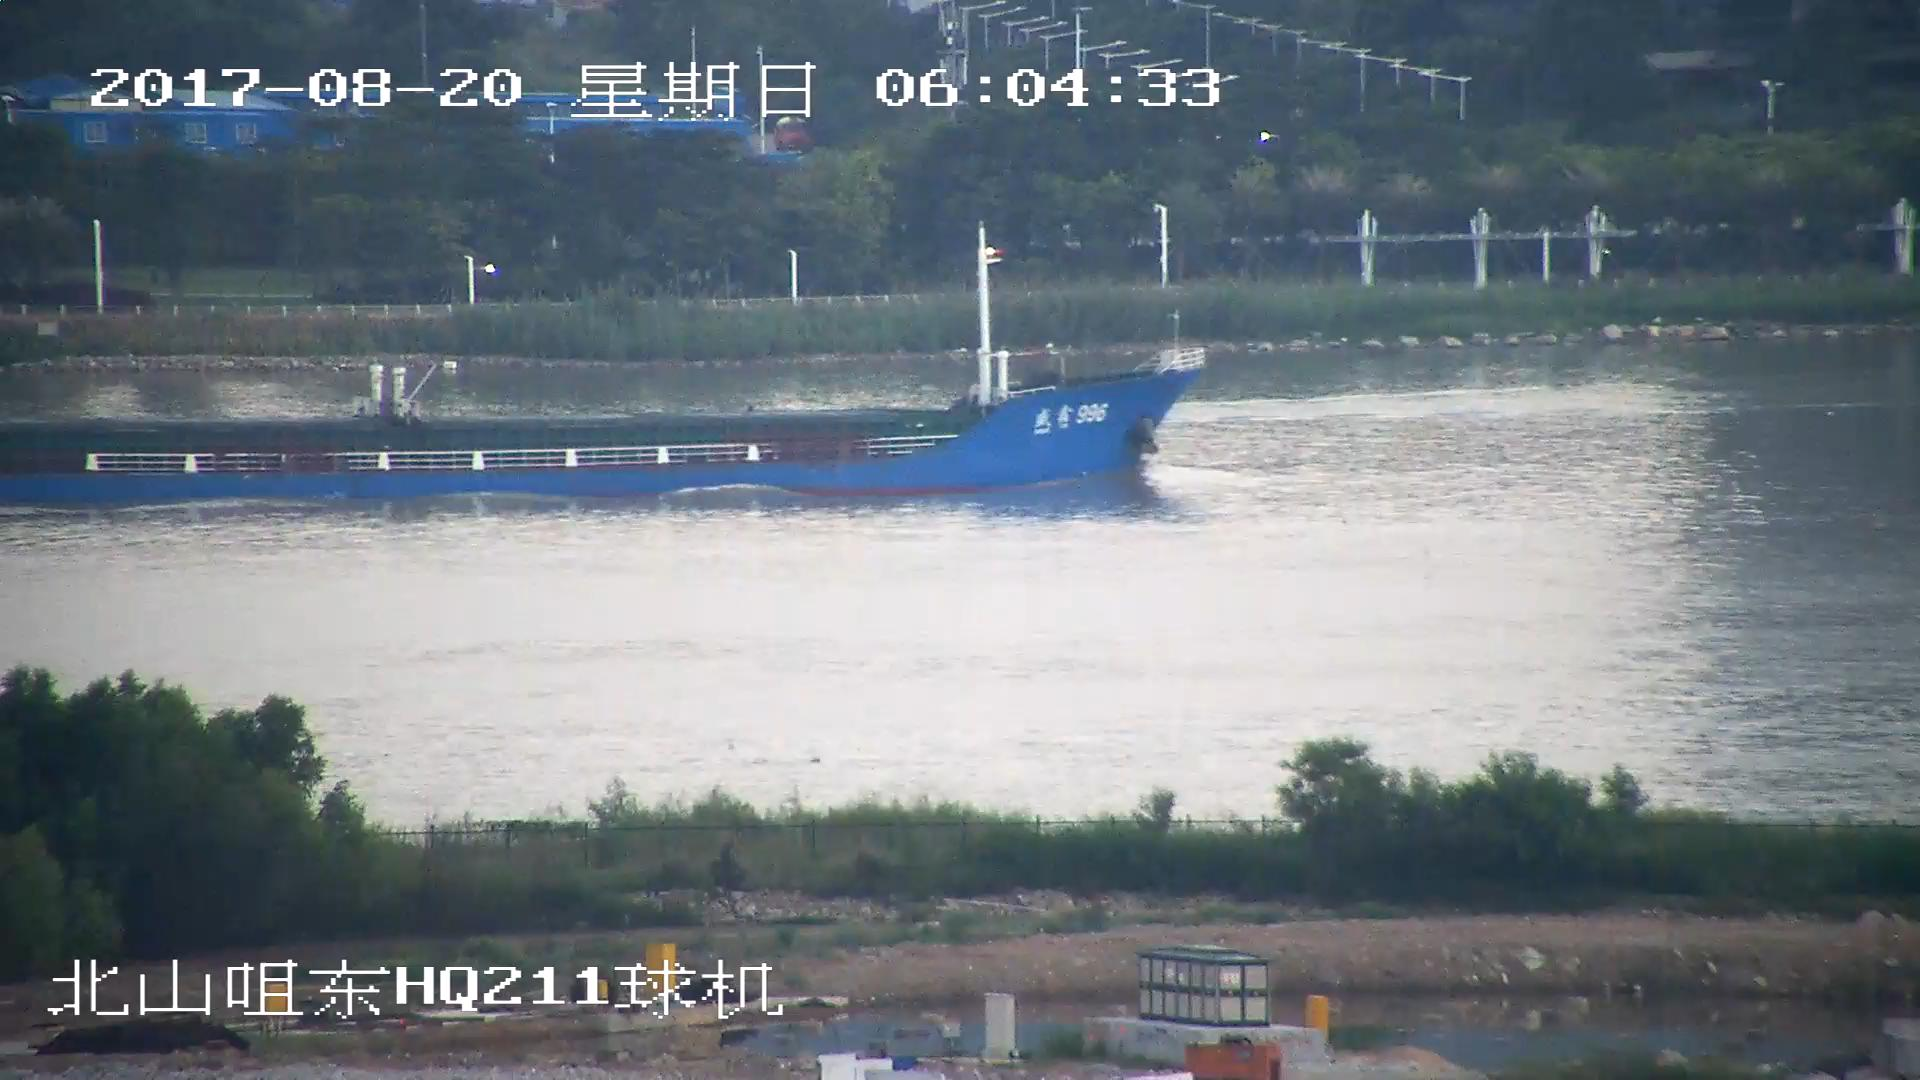general cargo ship: (1, 264, 1197, 494)
